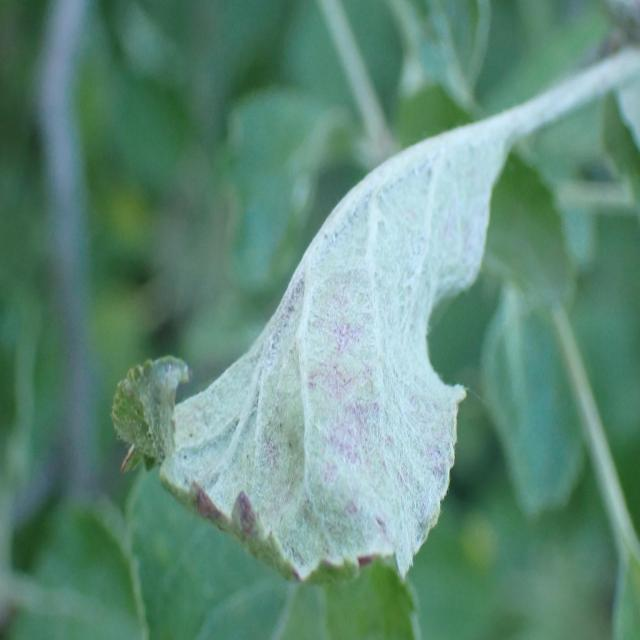Powdery_mildew: (85, 109, 558, 585)
